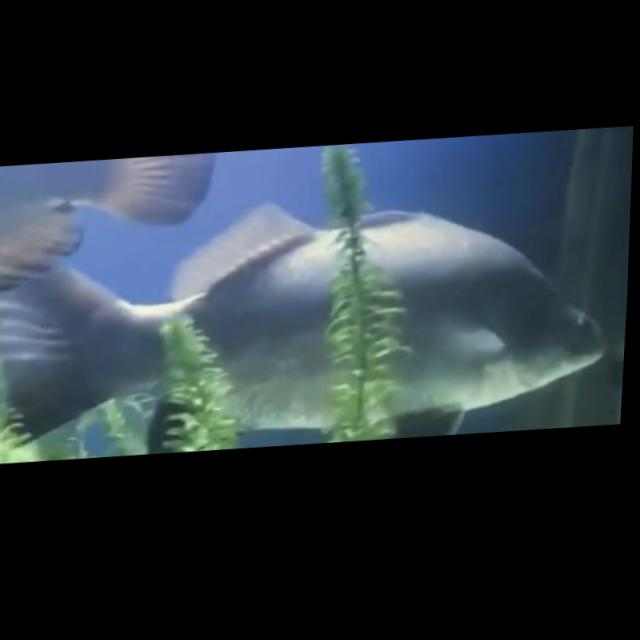Seabass: (0, 167, 624, 465)
